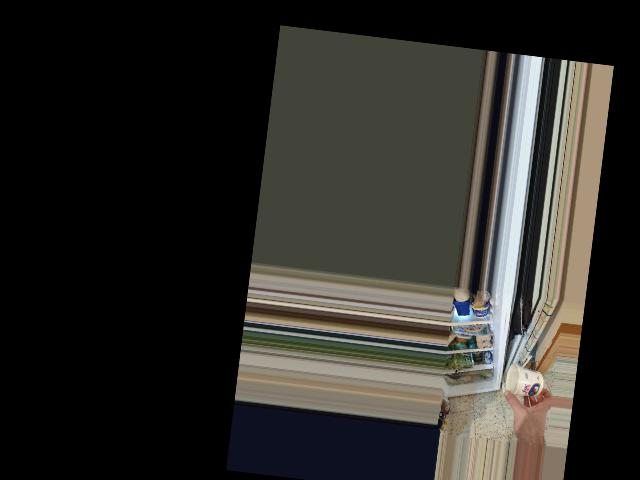cotage: (502, 363, 549, 401)
